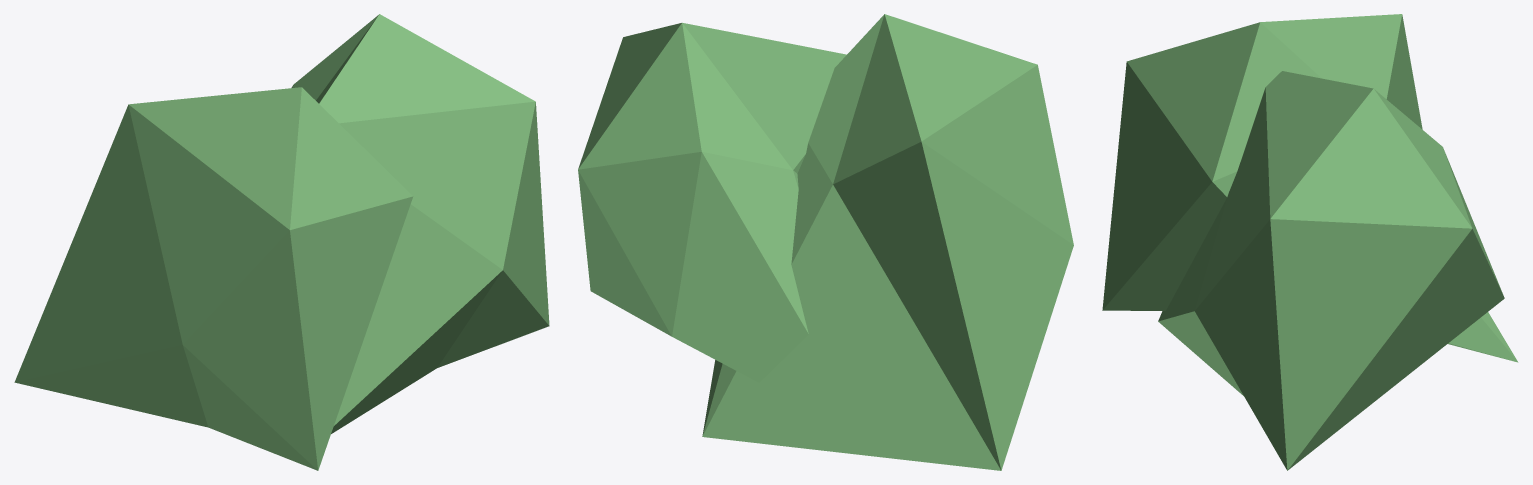
The model's file is bush.fbx.
3 renders of one model, left to right at view 1: azimuth 30°, elevation 25°; view 2: azimuth 150°, elevation 25°; view 3: azimuth 270°, elevation 25°, orthographic. The views are drawn at different scales.
Visible parts, largest first — view 1: Bush; view 2: Bush; view 3: Bush.
Part boxes in pixels (x1=…): Bush: x1=14, y1=14, x2=549, y2=470; Bush: x1=578, y1=14, x2=1073, y2=470; Bush: x1=1102, y1=14, x2=1518, y2=470.
Size of the model in its own units: 203 by 132 by 156.
